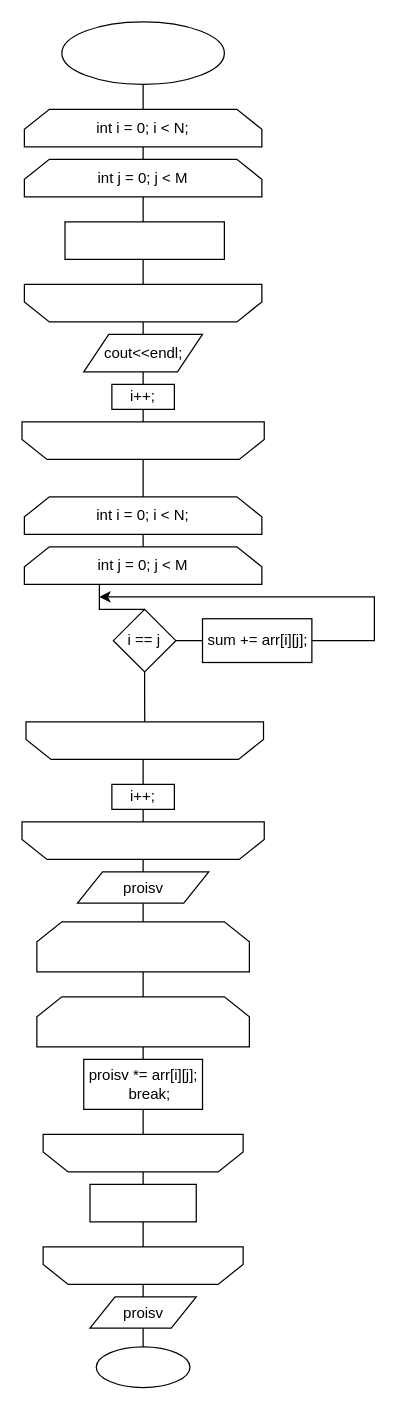
The diagram is 398 pixels wide and 1410 high, and some of its shapes have lost their labels. The shapes that lost their labels are listed below. From the top down, each one's centre as x and y in pixels, then its label:
point (142, 52): начало
point (144, 240): arr[i][j]=rand()%100; cout<<arr[i][j]<<"\t";j++
point (142, 946): int i = 0, j = 2; i < N;
point (142, 1021): j ; j >= 0 ;
point (142, 1202): i++;j--;
point (142, 1367): конец
